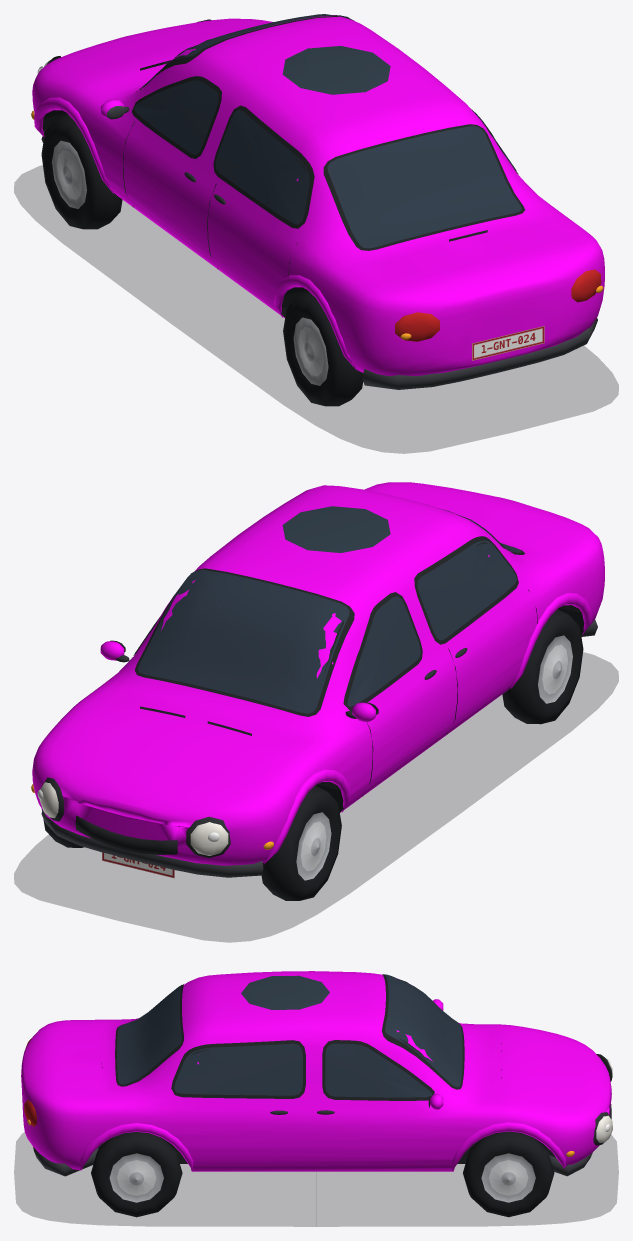
File: car-sedan.obj
3 views of the same model, one above another, from view 1: azimuth 30°, elevation 25°; view 2: azimuth 150°, elevation 25°; view 3: azimuth 270°, elevation 25° (orthographic). The views are drawn at different scales.
Parts seen in each view (by area): view 1: body.rl, shadowpad.nocast, body.fl, body.rr, glass.backlight.nocast, glass.win_rear.-1.nocast, wheel.RL, wheel.FL, body.fr, opt.sunroof.nocast, glass.win_front.-1.nocast, trim.bumper_rear (+9 smaller); view 2: body.fl, shadowpad.nocast, body.rl, body.fr, glass.windshield.nocast, wheel.FL, glass.win_rear.-1.nocast, wheel.RL, body.rr, glass.win_front.-1.nocast, opt.sunroof.nocast, trim.bumper_front (+8 smaller); view 3: body.fr, shadowpad.nocast, body.rr, body.fl, wheel.FR, wheel.RR, glass.win_rear.1.nocast, body.rl, glass.windshield.nocast, glass.win_front.1.nocast, glass.backlight.nocast, opt.sunroof.nocast (+8 smaller).
Boxes of the visible parts, box(x1,y1,x2,y2) form: body.rl: box(92, 66, 508, 375); shadowpad.nocast: box(14, 165, 618, 453); body.fl: box(32, 27, 306, 317); body.rr: box(357, 46, 604, 358); glass.backlight.nocast: box(327, 126, 521, 248); glass.win_rear.-1.nocast: box(215, 109, 309, 224); wheel.RL: box(283, 291, 363, 406); wheel.FL: box(41, 114, 122, 229); body.fr: box(130, 15, 397, 50); opt.sunroof.nocast: box(282, 46, 390, 94); glass.win_front.-1.nocast: box(134, 80, 218, 154); trim.bumper_rear: box(362, 318, 597, 389); body.fl: box(124, 550, 526, 865); shadowpad.nocast: box(14, 652, 618, 942); body.rl: box(341, 496, 604, 795); body.fr: box(32, 531, 308, 838); glass.windshield.nocast: box(138, 570, 349, 713); wheel.FL: box(261, 785, 341, 900); glass.win_rear.-1.nocast: box(417, 540, 516, 640); wheel.RL: box(502, 609, 583, 724); body.rr: box(239, 482, 504, 534); glass.win_front.-1.nocast: box(347, 596, 420, 706); opt.sunroof.nocast: box(282, 506, 390, 552); trim.bumper_front: box(41, 810, 263, 877); body.fr: box(183, 993, 611, 1171); shadowpad.nocast: box(14, 1132, 618, 1226); body.rr: box(21, 995, 469, 1170); body.fl: box(313, 971, 611, 1090); wheel.FR: box(463, 1131, 554, 1217); wheel.RR: box(91, 1131, 182, 1217); glass.win_rear.1.nocast: box(174, 1043, 302, 1095); body.rl: box(21, 971, 312, 1070); glass.windshield.nocast: box(385, 974, 462, 1087); glass.win_front.1.nocast: box(325, 1043, 432, 1097); glass.backlight.nocast: box(117, 985, 181, 1084); opt.sunroof.nocast: box(241, 975, 329, 1009).
Bounding box in the file's own units: 2.08 × 1.62 × 4.88.
16 materials, 1 textured.
